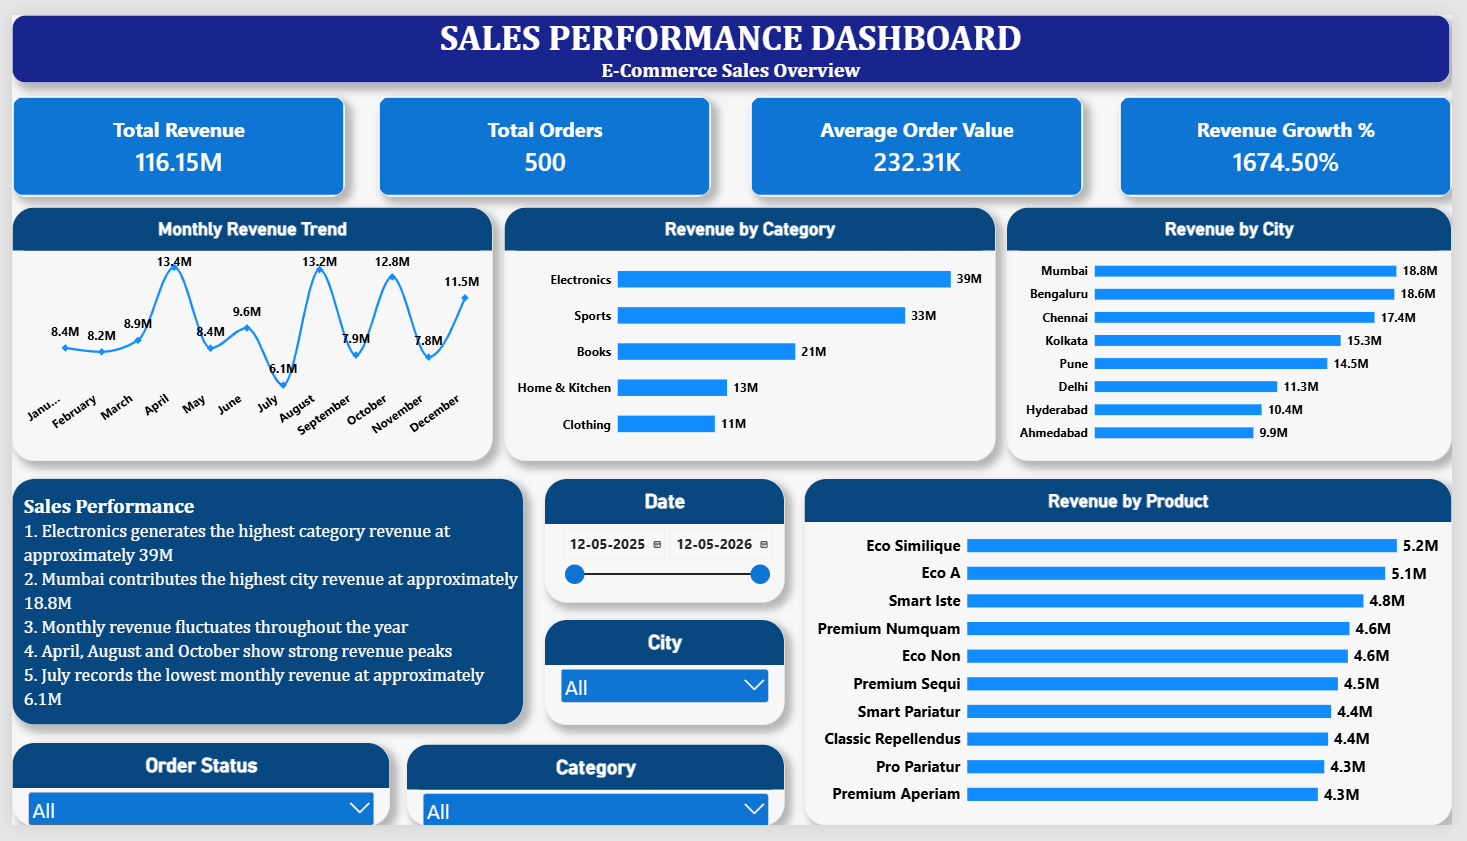

The page's visual inventory and layout, read from the dashboard file:
{"tool":"powerbi","page":{"name":"Sales Performance Dashboard","canvas":[1920,1080],"ordinal":0},"visuals":[{"type":"cardVisual","fields":{"Data":["order_items.Total Revenue"]},"box":[0,107.5,444.3,134.3],"z":0},{"type":"cardVisual","fields":{"Data":["orders.Total Orders"]},"box":[487.7,107.5,444.3,134.3],"z":1000},{"type":"cardVisual","fields":{"Data":["order_items.Average Order Value"]},"box":[983.6,107.5,444.3,134.3],"z":2000},{"type":"lineChart","title":"Monthly Revenue Trend","fields":{"Category":["Calendar.Date.Variation.Date Hierarchy.Year","Calendar.Date.Variation.Date Hierarchy.Month","Calendar.Date.Variation.Date Hierarchy.Day"],"Y":["order_items.Total Revenue"]},"box":[0,256.2,640.6,338.9],"z":3000},{"type":"clusteredBarChart","title":"Revenue by Category","fields":{"Category":["products.category"],"Y":["order_items.Total Revenue"]},"box":[655,256.2,655,338.9],"z":4000},{"type":"clusteredBarChart","title":"Revenue by City","fields":{"Category":["customers.city"],"Y":["order_items.Total Revenue"]},"box":[1326.6,256.2,593,338.9],"z":5000},{"type":"clusteredBarChart","title":"Revenue by Product","fields":{"Category":["products.product_name"],"Y":["order_items.Total Revenue"]},"box":[1055.9,617.8,863.7,462.9],"z":6000},{"type":"slicer","title":"Date","fields":{"Values":["Calendar.Date"]},"box":[710.8,617.8,320.3,165.3],"z":7000},{"type":"slicer","title":"Category","fields":{"Values":["products.category"]},"box":[526.9,971.2,504.2,109.5],"z":8000},{"type":"slicer","title":"City","fields":{"Values":["customers.city"]},"box":[710.8,805.9,320.3,140.5],"z":9000},{"type":"slicer","title":"Order Status","fields":{"Values":["orders.status"]},"box":[0,969.1,504.2,111.6],"z":10000},{"type":"textbox","box":[0,617.8,681.9,328.6],"z":11000},{"type":"textbox","box":[0,0,1917.6,90.9],"z":12000},{"type":"cardVisual","fields":{"Data":["order_items.Revenue Growth %"]},"box":[1475.4,107.5,444.3,134.3],"z":13000}]}

Visuals, with their boxes in screenshot pixels (x1, y1, x2, y2), scaled from the page's 1920x1080 canvas onto the 1467x841 screenshot:
cardVisual - order_items.Total Revenue: bbox=[0, 84, 339, 188]
cardVisual - orders.Total Orders: bbox=[373, 84, 712, 188]
cardVisual - order_items.Average Order Value: bbox=[752, 84, 1091, 188]
"Monthly Revenue Trend" lineChart: bbox=[0, 200, 489, 463]
"Revenue by Category" clusteredBarChart: bbox=[500, 200, 1001, 463]
"Revenue by City" clusteredBarChart: bbox=[1014, 200, 1466, 463]
"Revenue by Product" clusteredBarChart: bbox=[807, 481, 1466, 840]
"Date" slicer: bbox=[543, 481, 788, 610]
"Category" slicer: bbox=[403, 756, 788, 840]
"City" slicer: bbox=[543, 628, 788, 737]
"Order Status" slicer: bbox=[0, 755, 385, 840]
textbox: bbox=[0, 481, 521, 737]
textbox: bbox=[0, 0, 1465, 71]
cardVisual - order_items.Revenue Growth %: bbox=[1127, 84, 1466, 188]
